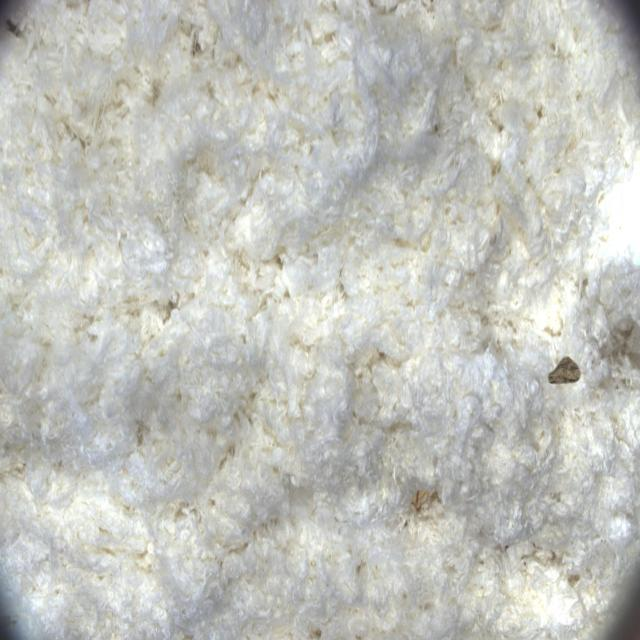dust: (533, 332, 603, 417)
